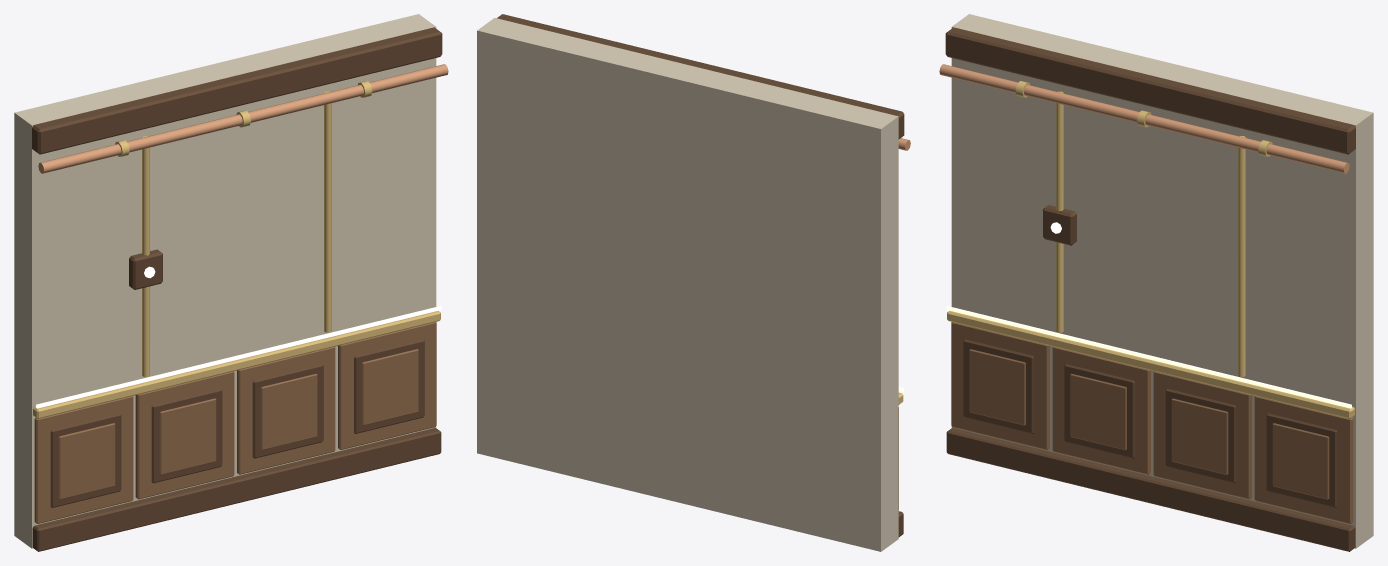
File: wall_hm_panel2.glb
3 views of the same model, side by side, from view 1: azimuth 30°, elevation 25°; view 2: azimuth 150°, elevation 25°; view 3: azimuth 330°, elevation 25° (orthographic).
Parts seen in each view (by area): view 1: wall_hm_panel2; view 2: wall_hm_panel2; view 3: wall_hm_panel2.
Boxes of the visible parts, x1,y1,x2,y2 form: wall_hm_panel2: (14,14,448,551); wall_hm_panel2: (477,14,910,551); wall_hm_panel2: (939,14,1373,551).
Bounding box in the file's own units: 4 × 4 × 0.53.
